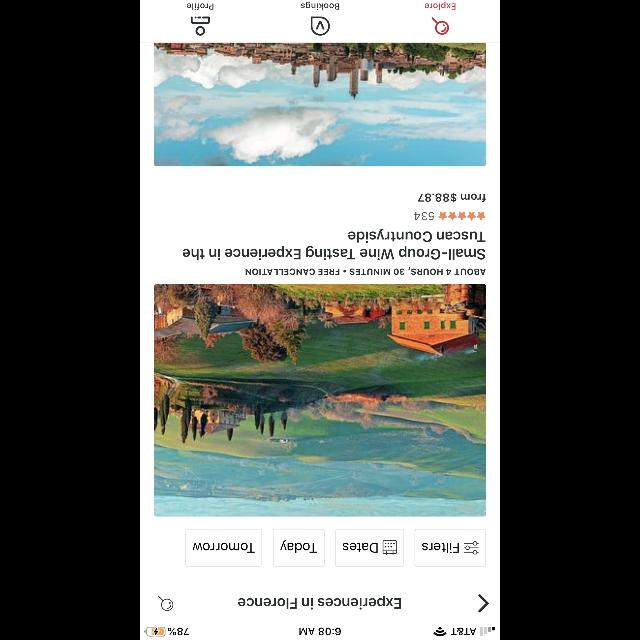icon: (190, 16, 210, 36), (438, 212, 486, 220), (432, 18, 448, 34), (158, 596, 174, 610), (478, 594, 488, 612)
image: (154, 284, 486, 516), (154, 44, 486, 166), (310, 16, 330, 36)
text: (182, 228, 486, 260), (238, 595, 402, 609), (246, 267, 486, 275), (418, 193, 486, 203), (301, 2, 339, 10), (424, 2, 456, 10), (186, 4, 214, 10), (414, 212, 434, 220)
textbutton: (185, 529, 262, 567), (414, 529, 486, 567), (334, 529, 404, 567), (273, 528, 325, 566)
uppertaskbar: (140, 626, 500, 640)
